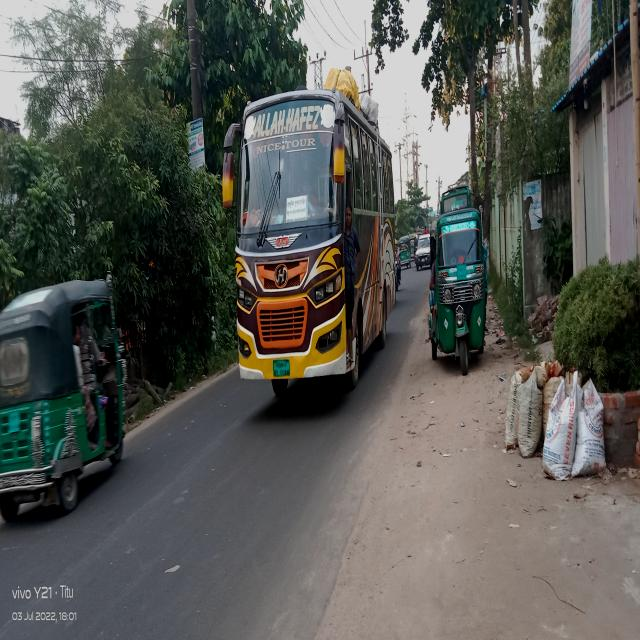bus: (222, 59, 411, 403)
